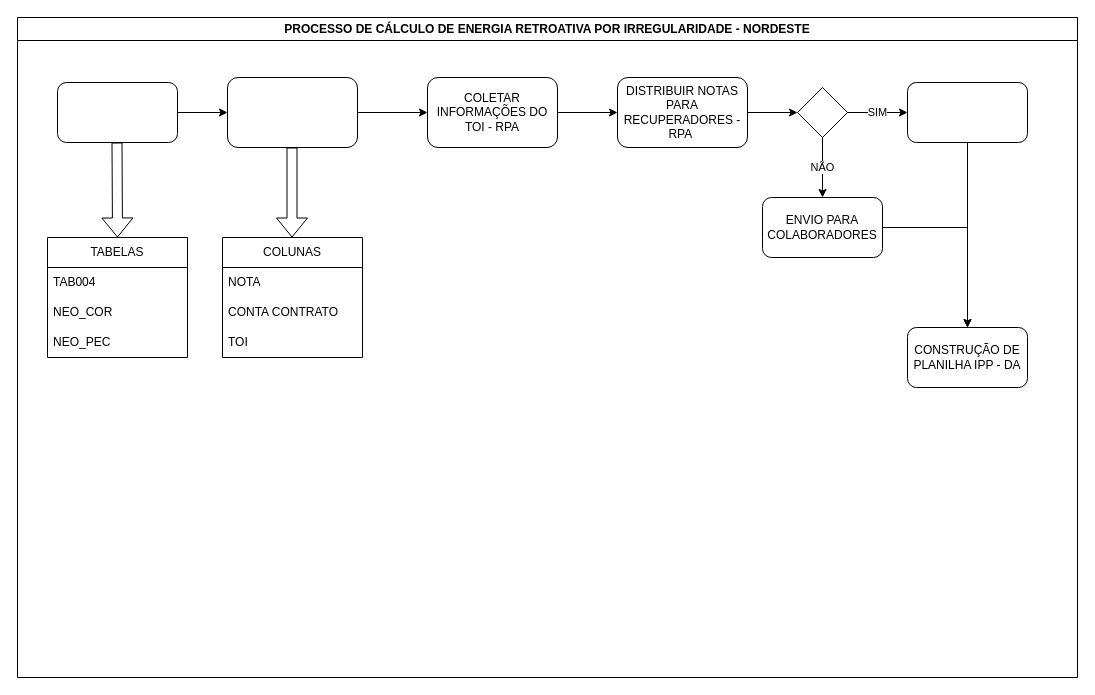
Some shapes in this 1095 by 695 pixel diagram are drawn without their labels. The shapes that lost their labels are listed below. From the top down, each one's centre as x and y in pixels, then its label:
At point 117,112: "IDENTIFICAÇÃO DOS PROCESSOS PENDENTES - DA".
At point 292,112: "COLETAR INFORMAÇÕES IMPRESCINDÍVEIS PARA A ANÁLISE DO PROCESSO - DA".
At point 822,112: "ROBÔ?".
At point 967,112: "SEGUE FLUXO DE CÁLCULO DE ENERGIA RETROATIVA - RPA".
